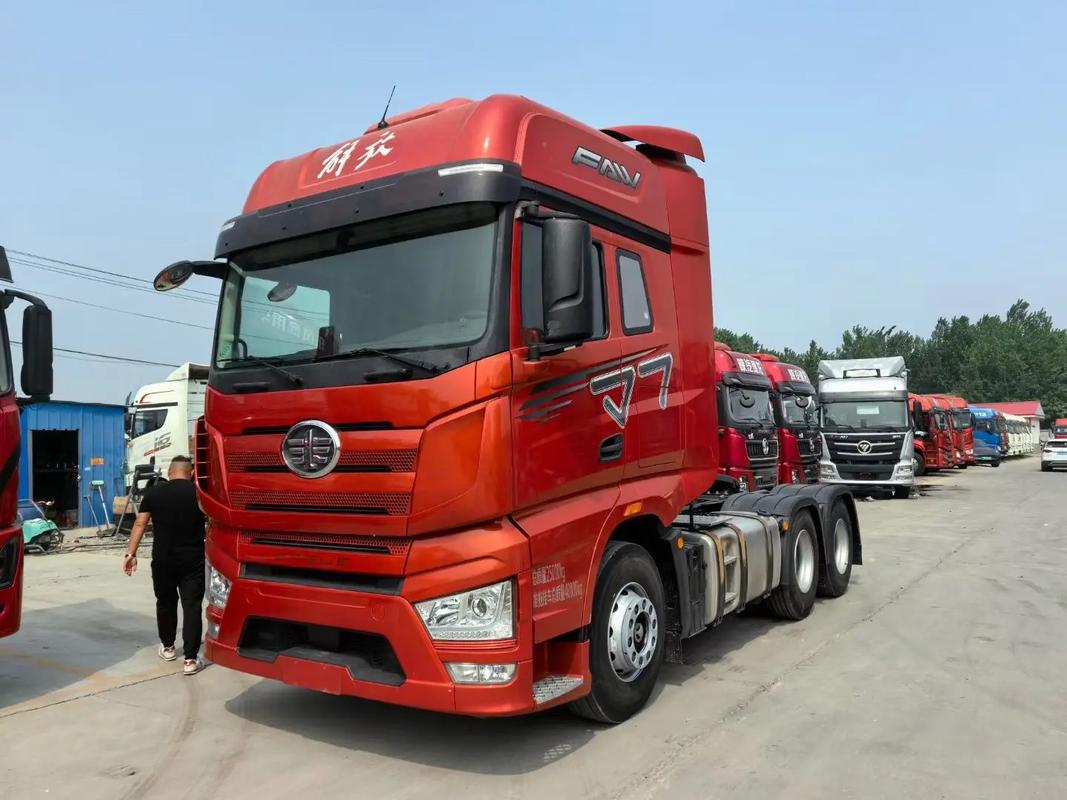卡车: (183, 103, 865, 735)
